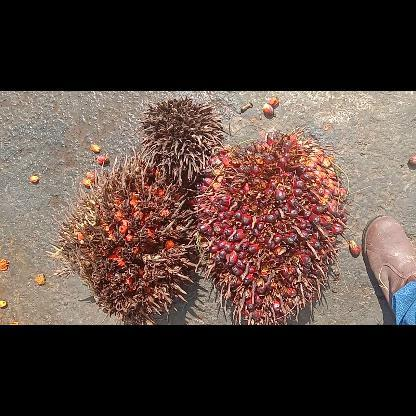Janjang kosong: (136, 97, 224, 185)
TBS masak: (191, 127, 347, 324)
Terlalu masak: (49, 154, 199, 324)
